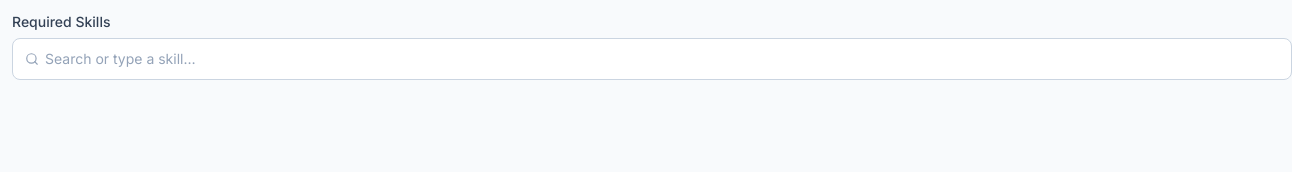
SkillPicker — selecting › adds a clicked skill to the form value and keeps it visible
The image size is (1292, 172).
Type "python" into the field named "required skills" at (662, 59), box x1=45 y1=49 x2=1279 y2=69
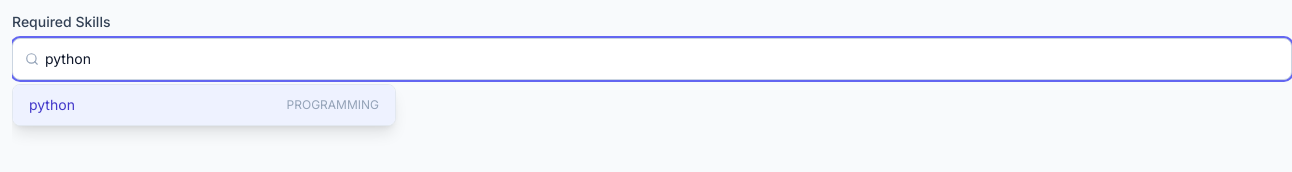
Click the option "python PROGRAMMING" at (52, 104), box x1=13 y1=85 x2=395 y2=125
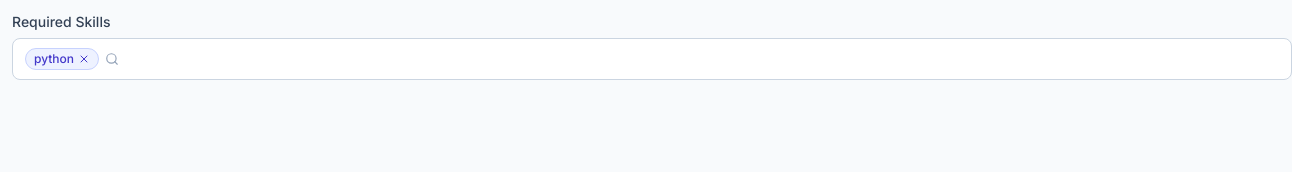
Expected: the button named "remove python" is shown, x1=78 y1=53 x2=90 y2=65
Expected: the list is gone
